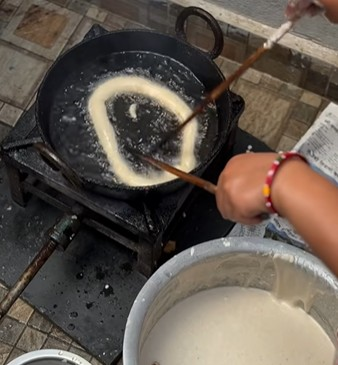sel_roti: (87, 73, 200, 186)
